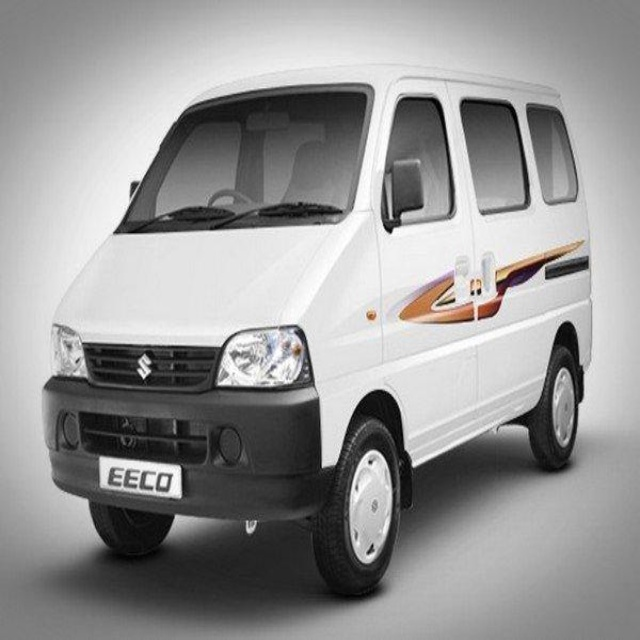Van: (42, 60, 590, 599)
